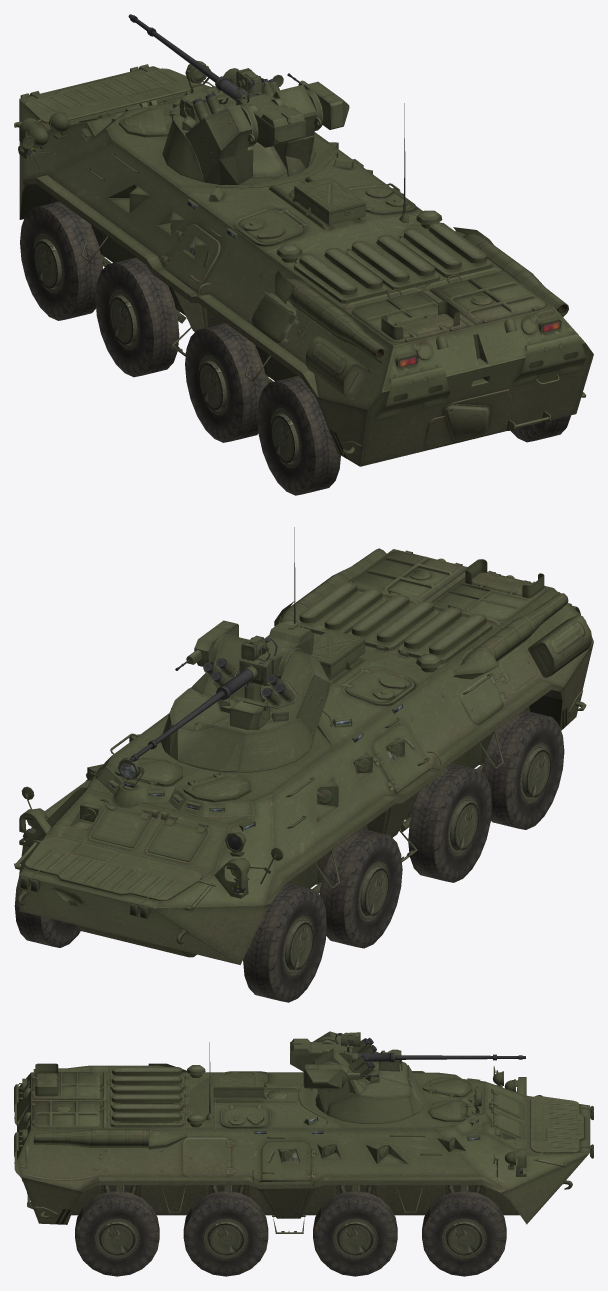
The model's file is BTR-82A WorkInProgress.fbx.
3 views of the same model, one above another, from view 1: azimuth 30°, elevation 25°; view 2: azimuth 150°, elevation 25°; view 3: azimuth 270°, elevation 25° (orthographic). The views are drawn at different scales.
Visible parts, largest first — view 1: Hull.001, Turret.001, Left Wheel_2.001, Left Wheel_1.001, Left Wheel_3.001, Left Wheel_4.001, Guns Group, Main Gun Barrel, Right Wheel_4.001; view 2: Hull.001, Turret.001, Left Wheel_3.001, Left Wheel_2.001, Left Wheel_4.001, Left Wheel_1.001, Guns Group, Driver Hatch, Co-Driver Hatch, Right Wheel_1.001, Main Gun Barrel; view 3: Hull.001, Turret.001, Right Wheel_3.001, Right Wheel_1.001, Right Wheel_4.001, Right Wheel_2.001, Guns Group, Main Gun Barrel, Driver Hatch, Co-Driver Hatch.
Boxes of the visible parts, x1,y1,x2,y2 form: Hull.001: (14, 60, 593, 466); Turret.001: (162, 79, 323, 184); Left Wheel_2.001: (95, 257, 179, 377); Left Wheel_1.001: (20, 201, 102, 320); Left Wheel_3.001: (185, 323, 267, 442); Left Wheel_4.001: (257, 376, 340, 495); Guns Group: (236, 68, 349, 147); Main Gun Barrel: (128, 14, 246, 101); Right Wheel_4.001: (510, 415, 570, 442); Hull.001: (14, 527, 593, 964); Turret.001: (161, 633, 330, 772); Left Wheel_3.001: (408, 763, 492, 882); Left Wheel_2.001: (319, 829, 402, 948); Left Wheel_4.001: (481, 710, 564, 829); Left Wheel_1.001: (243, 883, 326, 1002); Guns Group: (175, 620, 313, 685); Driver Hatch: (147, 815, 208, 861); Co-Driver Hatch: (90, 801, 151, 847); Right Wheel_1.001: (14, 877, 80, 947); Main Gun Barrel: (129, 669, 253, 761); Hull.001: (14, 1042, 593, 1233); Turret.001: (313, 1031, 425, 1123); Right Wheel_3.001: (183, 1191, 268, 1276); Right Wheel_1.001: (422, 1191, 506, 1276); Right Wheel_4.001: (75, 1191, 159, 1276); Right Wheel_2.001: (313, 1191, 397, 1276); Guns Group: (290, 1032, 378, 1088); Main Gun Barrel: (357, 1052, 525, 1062); Driver Hatch: (491, 1089, 521, 1118); Co-Driver Hatch: (491, 1109, 521, 1138).
Bounding box in the file's own units: 291 × 320 × 770.
Materials: 4 (4 with a texture image).
